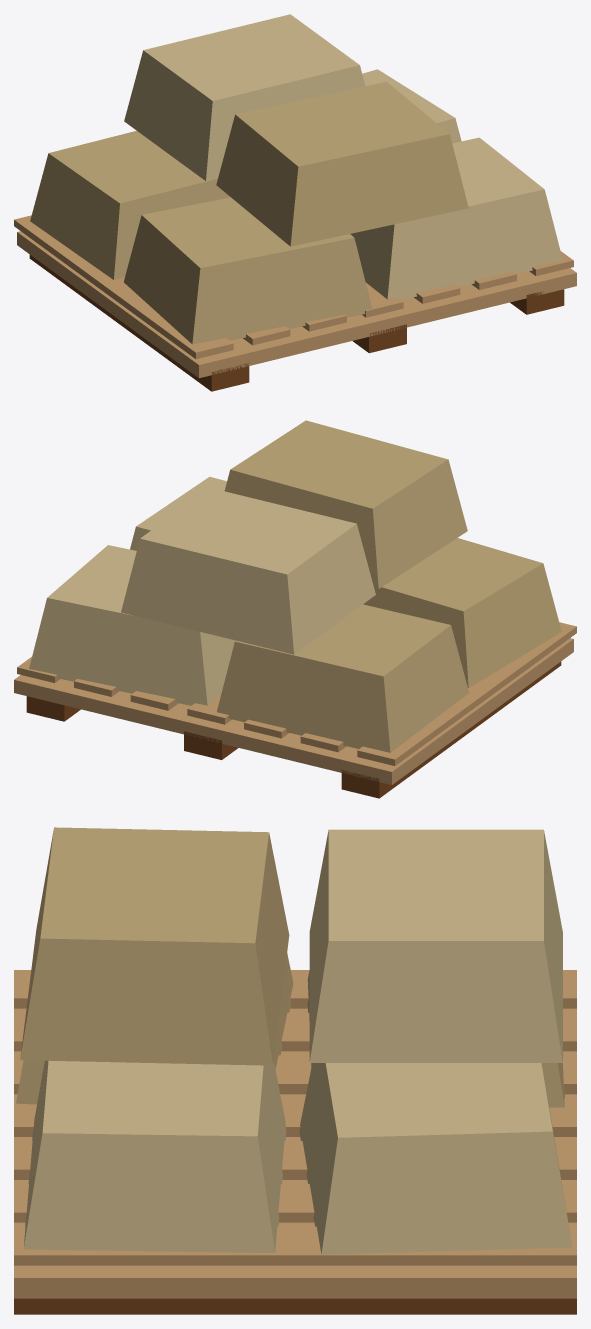
The model's file is Camp_SackPallet.fbx.
3 views of the same model, one above another, from view 1: azimuth 30°, elevation 25°; view 2: azimuth 150°, elevation 25°; view 3: azimuth 270°, elevation 25° (orthographic). The views are drawn at different scales.
Visible parts, largest first — view 1: Camp_SackPallet; view 2: Camp_SackPallet; view 3: Camp_SackPallet.
Boxes of the visible parts, x1=… form: Camp_SackPallet: x1=14, y1=14, x2=576, y2=391; Camp_SackPallet: x1=14, y1=420, x2=576, y2=798; Camp_SackPallet: x1=14, y1=827, x2=576, y2=1314.
Bounding box in the file's own units: 1.21 × 0.58 × 1.
